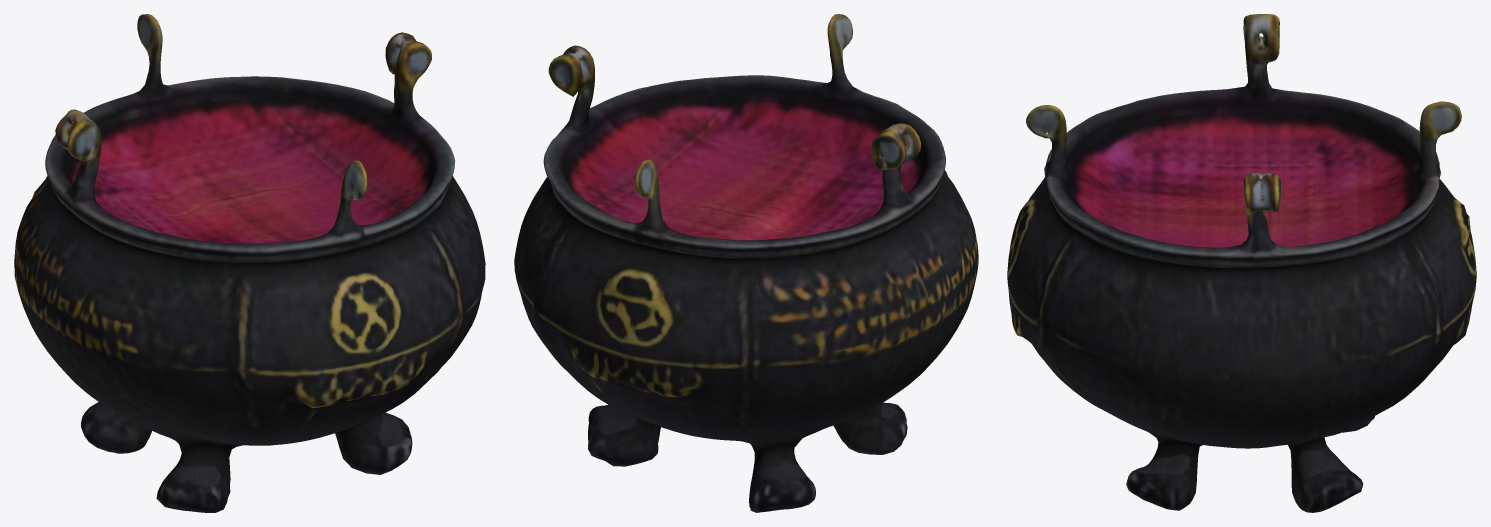
The model's file is fa9039b11611_The_cauldron_stands.fbx.
The picture shows the model from 3 angles, left to right: view 1: azimuth 30°, elevation 25°; view 2: azimuth 150°, elevation 25°; view 3: azimuth 270°, elevation 25°; orthographic projection. The views are drawn at different scales.
Visible parts, largest first — view 1: mesh; view 2: mesh; view 3: mesh.
Part boxes in pixels (x1=…): mesh: x1=14, y1=14, x2=485, y2=512; mesh: x1=514, y1=14, x2=978, y2=512; mesh: x1=1007, y1=14, x2=1476, y2=512.
Bounding box in the file's own units: 97.68 × 87.65 × 99.95.
